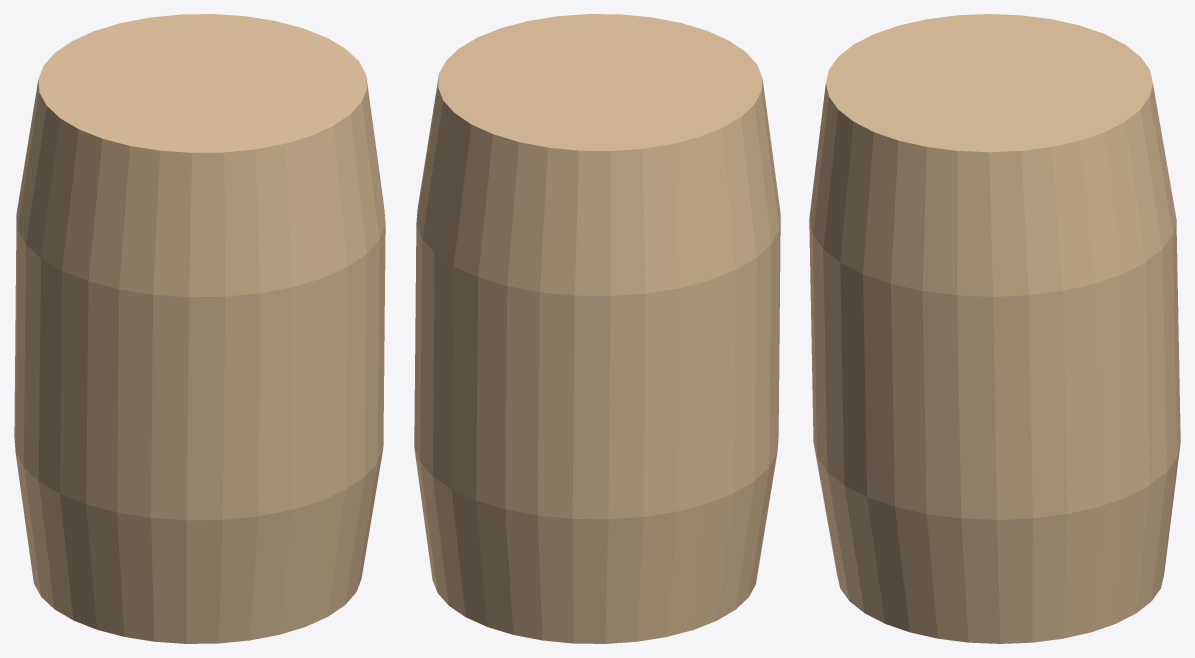
The model's file is Barrel.fbx.
3 renders of one model, left to right at view 1: azimuth 30°, elevation 25°; view 2: azimuth 150°, elevation 25°; view 3: azimuth 270°, elevation 25°, orthographic.
Parts seen in each view (by area): view 1: Barrel; view 2: Barrel; view 3: Barrel.
Boxes of the visible parts, left/top/right/bottom form: Barrel: left=14, top=14, right=385, bottom=643; Barrel: left=414, top=14, right=780, bottom=643; Barrel: left=809, top=14, right=1180, bottom=643.
Size of the model in its own units: 95.18 by 141 by 96.24.
